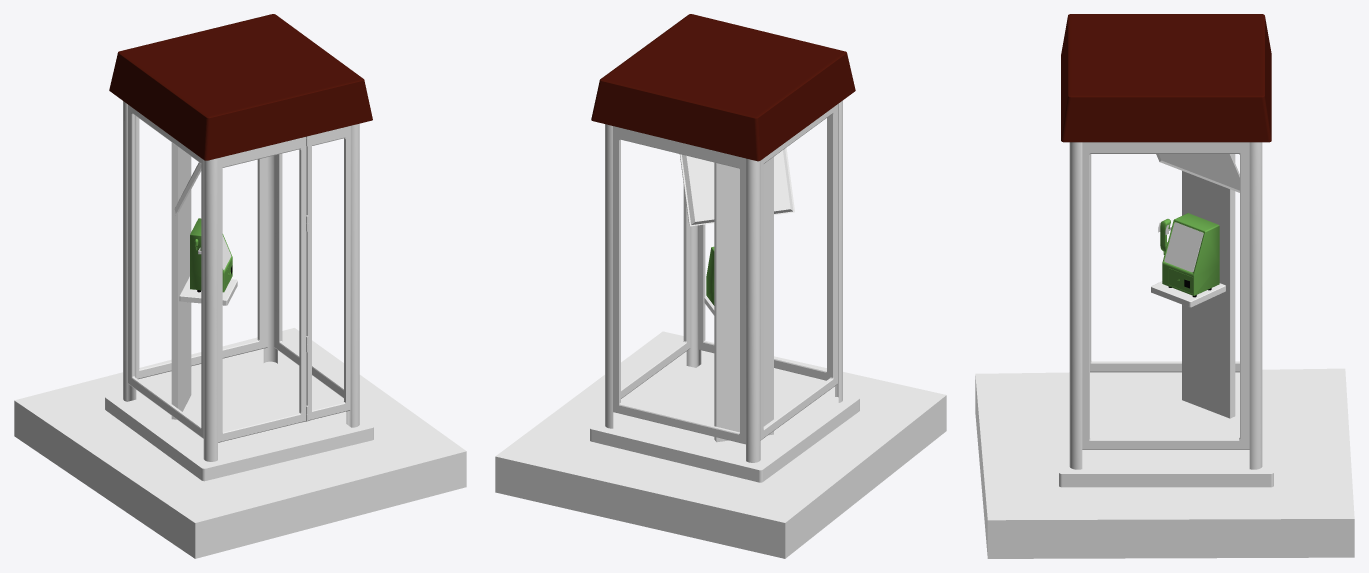
File: tel_min.gltf
The picture shows the model from 3 angles, left to right: view 1: azimuth 30°, elevation 25°; view 2: azimuth 150°, elevation 25°; view 3: azimuth 270°, elevation 25°; orthographic projection. The views are drawn at different scales.
Visible parts, largest first — view 1: Plane.021, Cube.001, Cube, Cube.002, Cylinder.004, Plane.001, Plane.005, Plane.009, Plane.007, Cylinder.001, Plane.003, Cylinder.003 (+5 smaller); view 2: Plane.021, Cube.001, Cube, Cube.002, Plane.005, Plane.001, Cylinder.003, Plane.019, Cylinder.002, Plane.003, Cylinder.004, Cylinder.001 (+3 smaller); view 3: Plane.021, Cube.001, Cube, Cube.002, Plane.003, Cylinder.001, Cylinder.002, Cube.005, Plane.019, Plane.001, Plane.020, Cube.003.
Boxes of the visible parts, box(x1,y1,x2,y2) form: Plane.021: box(14, 328, 466, 558); Cube.001: box(109, 14, 372, 160); Cube: box(105, 356, 373, 481); Cube.002: box(171, 142, 191, 419); Cylinder.004: box(203, 158, 217, 461); Plane.001: box(128, 105, 203, 438); Plane.005: box(136, 116, 267, 379); Plane.009: box(218, 137, 306, 442); Plane.007: box(306, 126, 350, 420); Cylinder.001: box(346, 123, 359, 427); Plane.003: box(274, 153, 343, 398); Cylinder.003: box(123, 101, 136, 401); Plane.021: box(495, 331, 946, 558); Cube.001: box(591, 14, 855, 161); Cube: box(590, 357, 859, 482); Cube.002: box(714, 157, 773, 442); Plane.005: box(613, 126, 746, 444); Plane.001: box(760, 104, 837, 440); Cylinder.003: box(746, 158, 760, 462); Plane.019: box(679, 147, 794, 226); Cylinder.002: box(605, 124, 613, 428); Plane.003: box(621, 185, 690, 398); Cylinder.004: box(835, 100, 842, 402); Cylinder.001: box(686, 225, 701, 367); Plane.021: box(975, 368, 1354, 558); Cube.001: box(1061, 14, 1271, 142); Cube: box(1059, 383, 1273, 487); Cube.002: box(1182, 154, 1235, 418); Plane.003: box(1082, 142, 1249, 449); Cylinder.001: box(1069, 142, 1082, 469); Cylinder.002: box(1249, 142, 1262, 469); Cube.005: box(1162, 213, 1219, 295); Plane.019: box(1156, 154, 1239, 192); Plane.001: box(1090, 154, 1239, 372); Plane.020: box(1164, 222, 1203, 272); Cube.003: box(1151, 281, 1225, 307).
Size of the model in its own units: 4.07 by 5.37 by 4.3.
